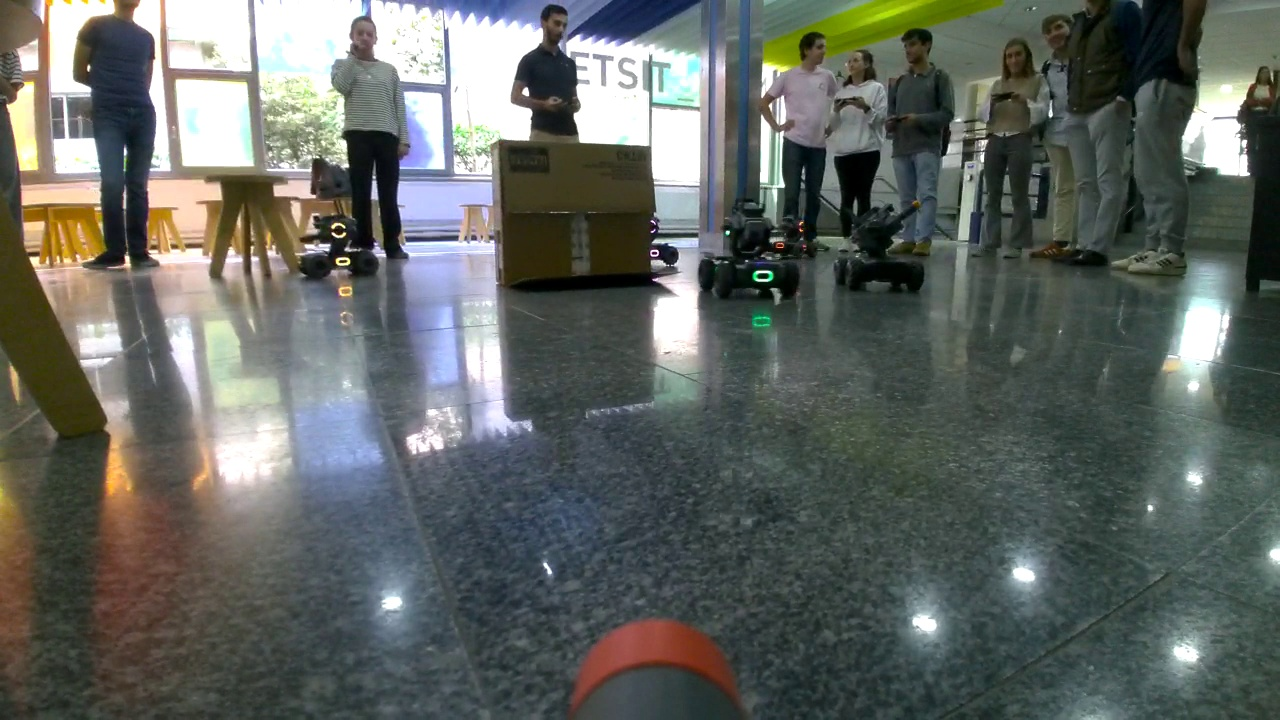robot: (701, 195, 805, 304), (829, 183, 927, 293), (289, 216, 386, 281), (649, 214, 682, 263)
